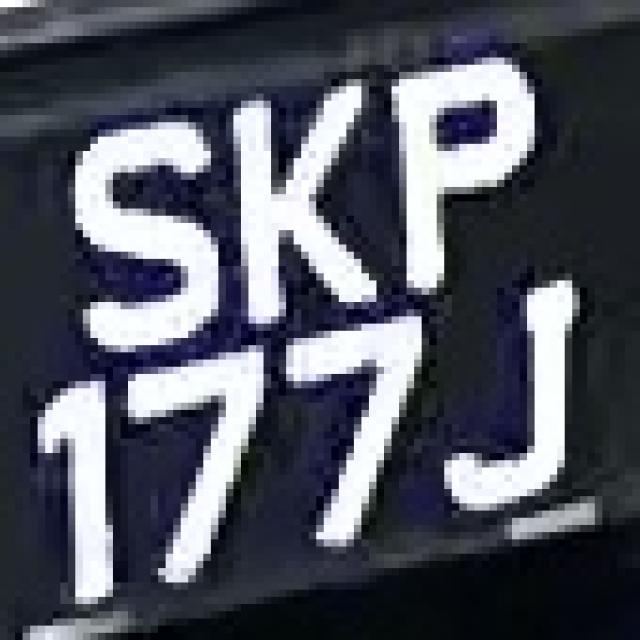1: (30, 367, 143, 604)
7: (98, 352, 286, 590), (264, 323, 436, 561)
J: (437, 266, 595, 539)
K: (226, 65, 376, 338)
P: (369, 36, 542, 295)
S: (53, 115, 233, 352)
